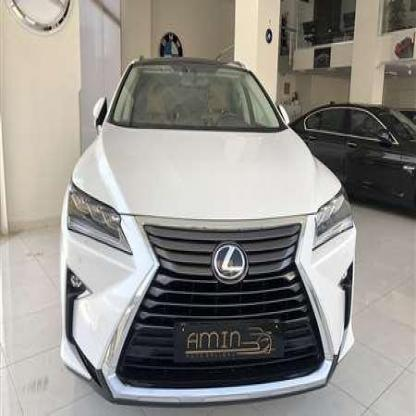Car: (56, 59, 353, 416), (286, 84, 416, 208)
